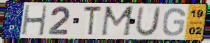2: (47, 5, 73, 36)
G: (161, 7, 187, 37)
H: (21, 5, 49, 37)
M: (100, 5, 137, 37)
T: (83, 5, 104, 38)
U: (134, 6, 163, 37)
